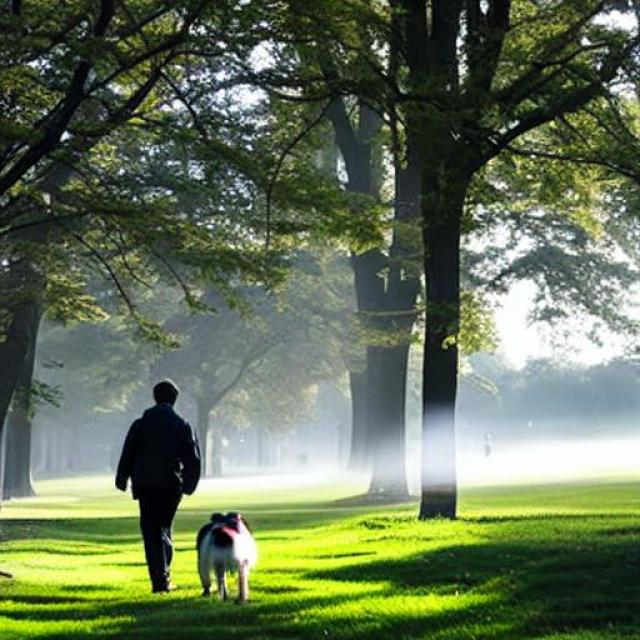Unleashed_Dog: (135, 472, 256, 604)
